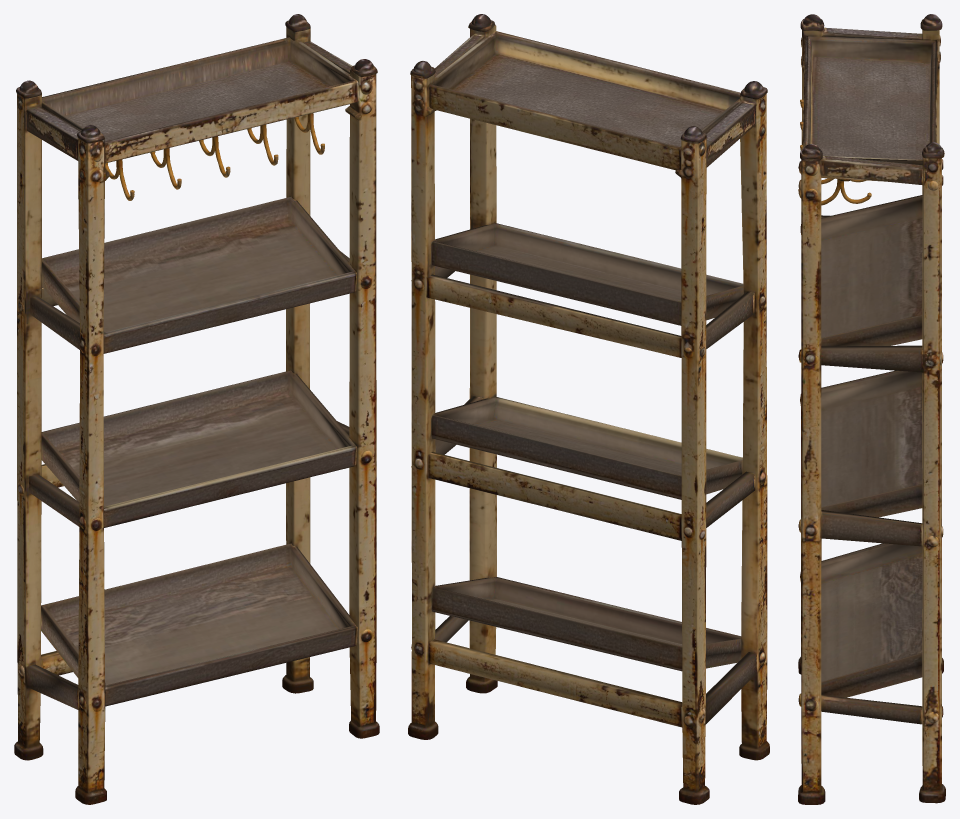
File: canteen-shelves.glb
3 renders of one model, left to right at view 1: azimuth 30°, elevation 25°; view 2: azimuth 150°, elevation 25°; view 3: azimuth 270°, elevation 25°, orthographic. The views are drawn at different scales.
Visible parts, largest first — view 1: SM_BT_CanteenShelves; view 2: SM_BT_CanteenShelves; view 3: SM_BT_CanteenShelves.
Part boxes in pixels (x1,y1,x2,y2): SM_BT_CanteenShelves: [14, 14, 379, 804]; SM_BT_CanteenShelves: [408, 14, 769, 804]; SM_BT_CanteenShelves: [798, 14, 945, 804].
Size of the model in its own units: 0.879 by 1.9 by 0.3889.
Materials: 1 (1 with a texture image).
